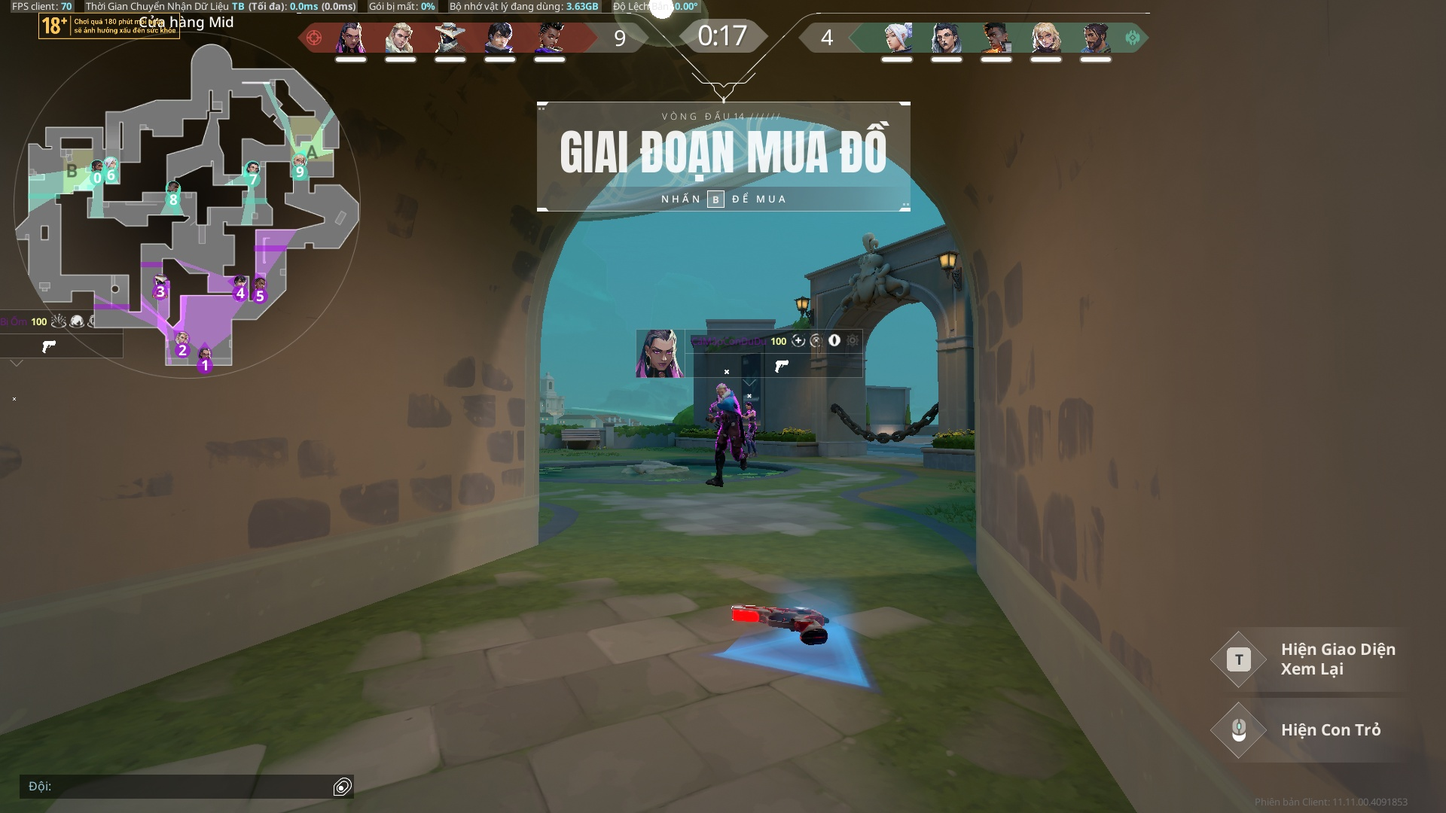body: (712, 397, 743, 433), (746, 409, 757, 423)
head: (716, 382, 729, 397), (746, 401, 753, 410)
